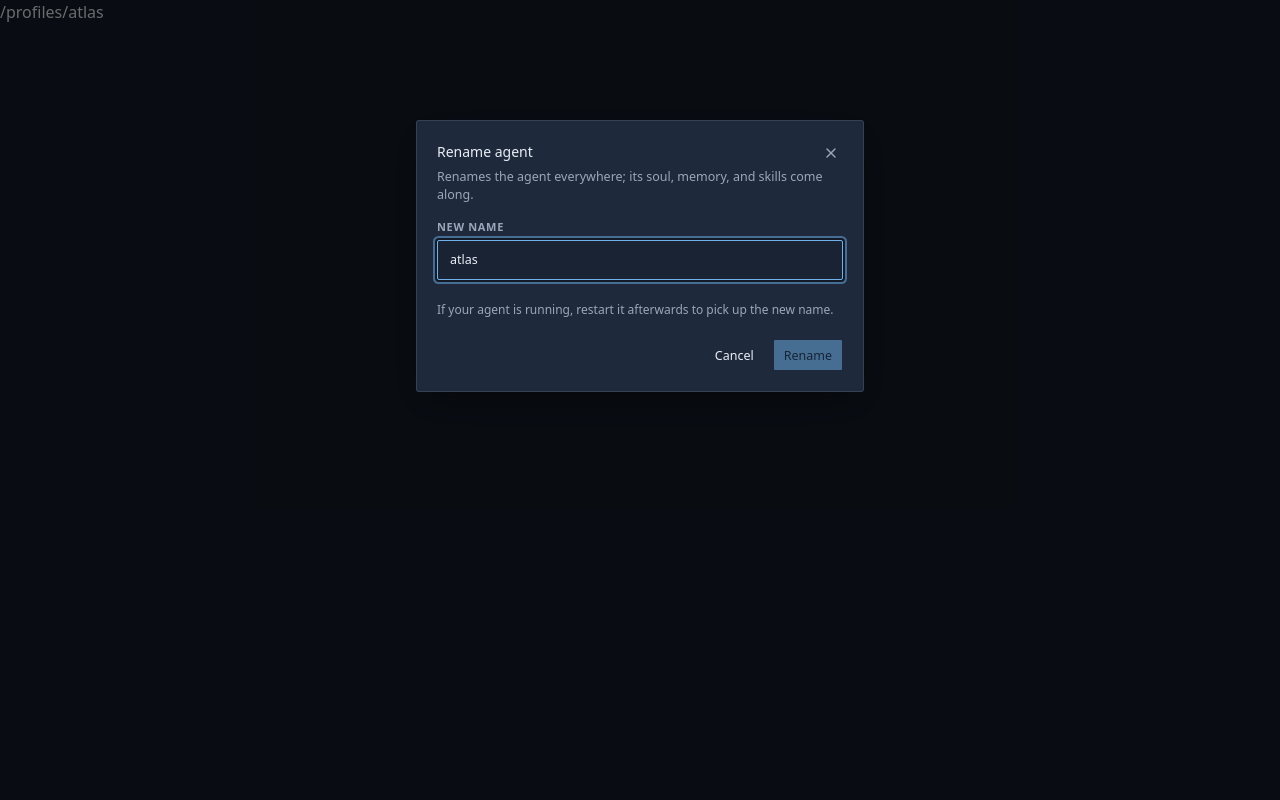
Test: RenameAgentDialog › disables Rename until the new name is valid and differs from the current
Expected: the button "Rename" is disabled, [773,340,843,372]
Replace the text in the field labelled "New name" with "Bad Name". click: coordinates (640, 260)
box: [437,240,843,280]
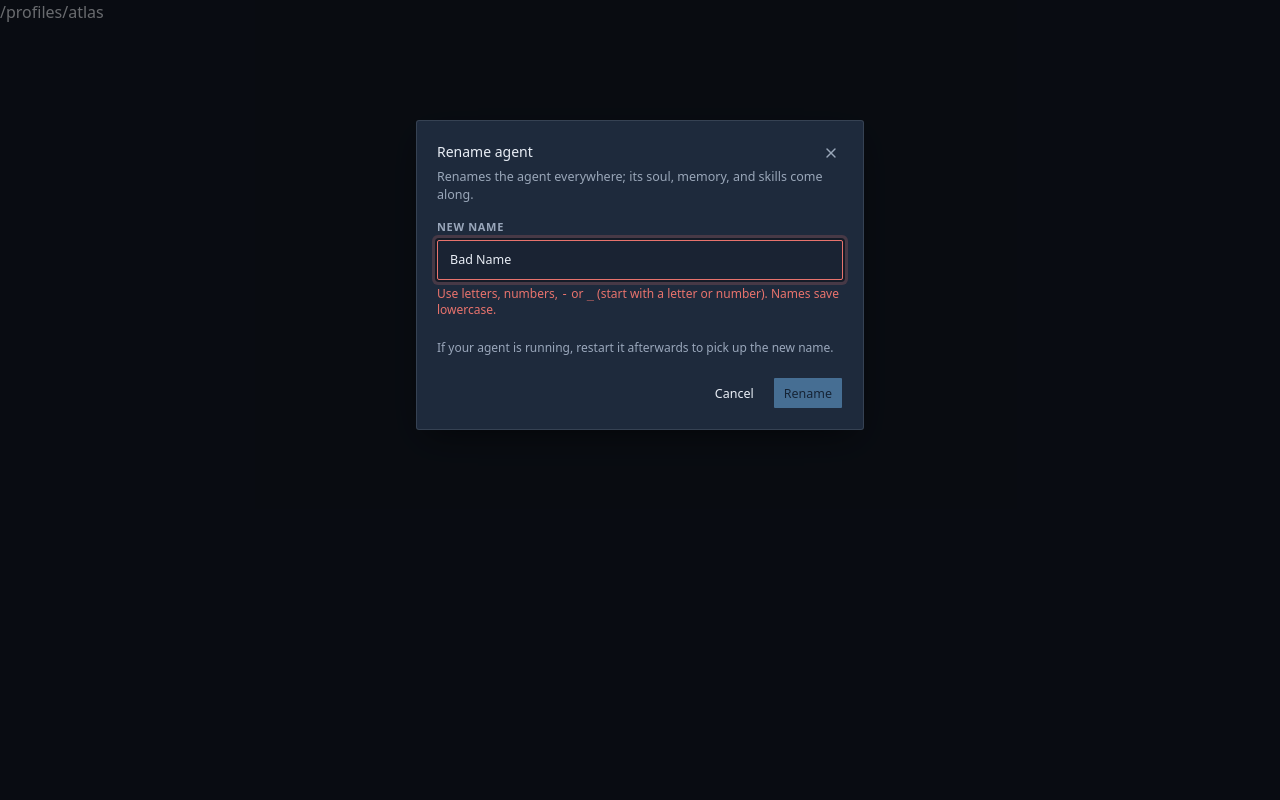
Expected: the button "Rename" is disabled, [773,378,843,410]
Replace the text in the field labelled "New name" with "Mercury". click: coordinates (640, 260)
box: [437,240,843,280]
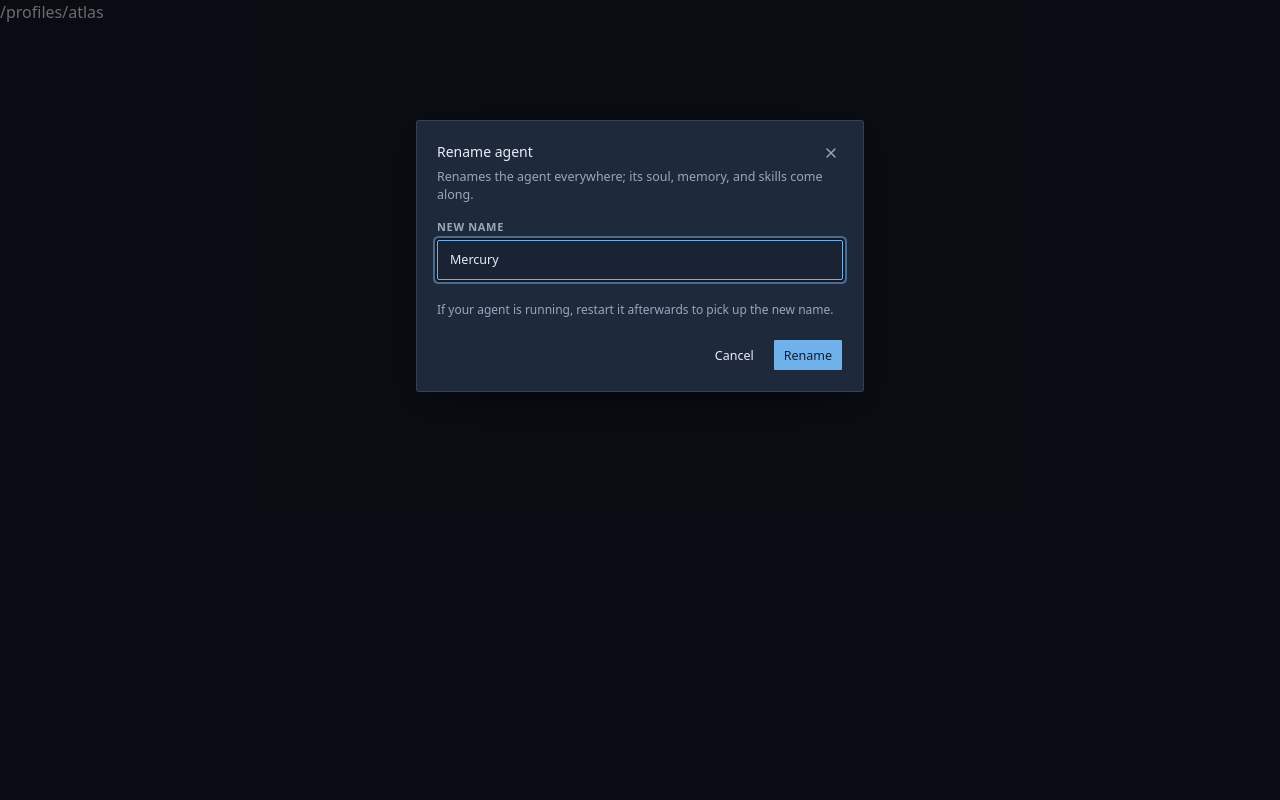
Now the button "Rename" is enabled, box [773,340,843,372]
